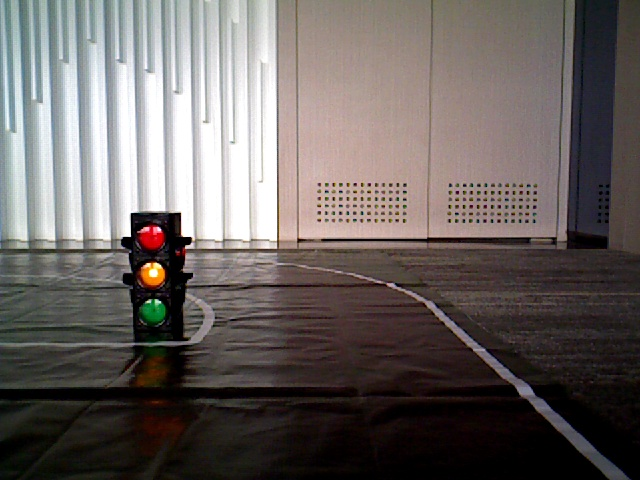yellow: (132, 216, 173, 334)
